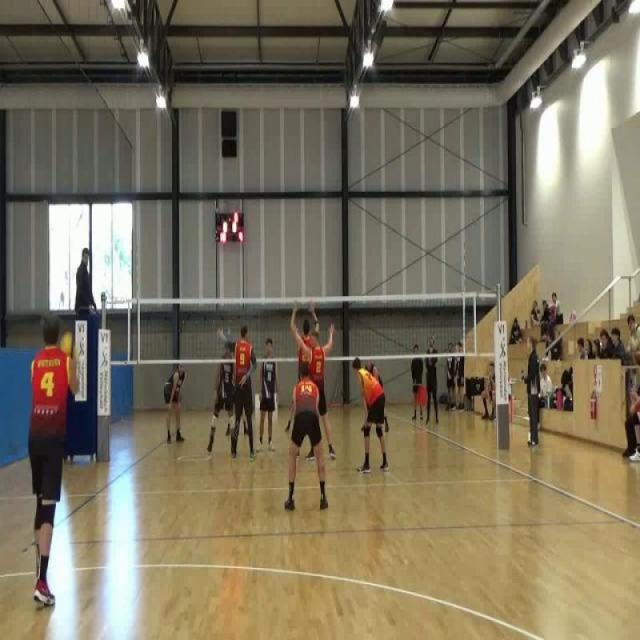volleyball: (59, 329, 76, 361)
